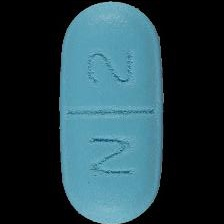43063-170: (0, 0, 224, 224)
